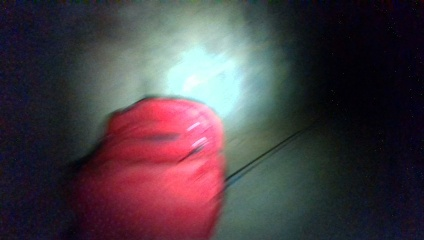backpack: (79, 94, 227, 238)
